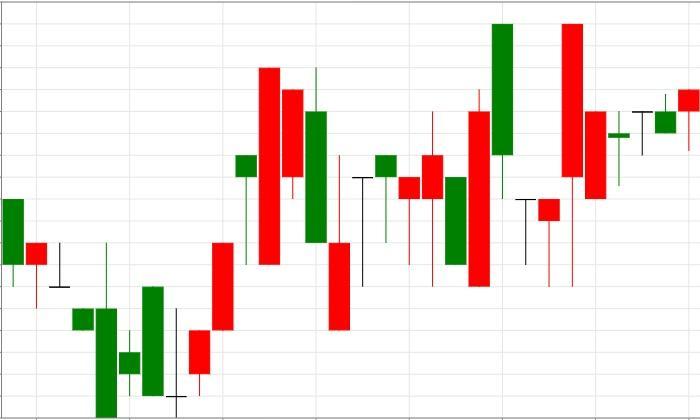hammer_rise: (491, 24, 561, 288)
hanging_man_fall: (327, 155, 398, 331)
morning_star_rise: (3, 199, 211, 419)
